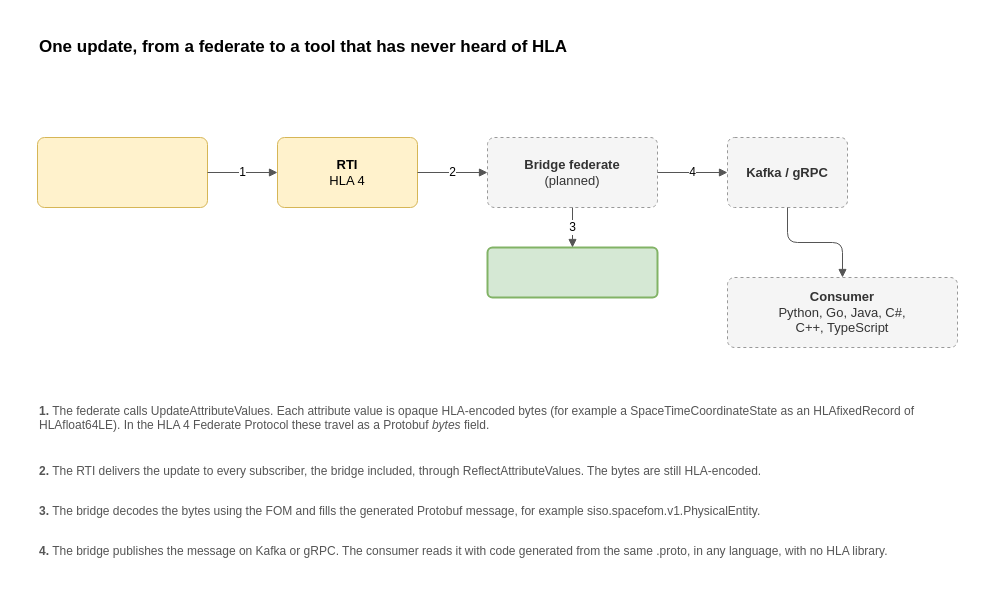
The diagram is 995 pixels wide and 595 high, and some of its shapes have lost their labels. The shapes that lost their labels are listed below. From the top down, each one's centre as x and y in pixels, then its label:
the point at 122,172: Federate e.g. a vehicle simulation
the point at 572,272: decode with the FOM → PhysicalEntity message
